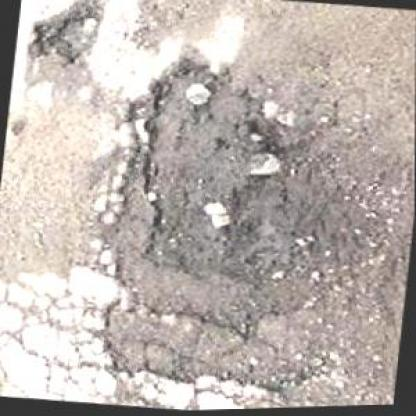pothole: (91, 44, 394, 347), (22, 0, 106, 73)
